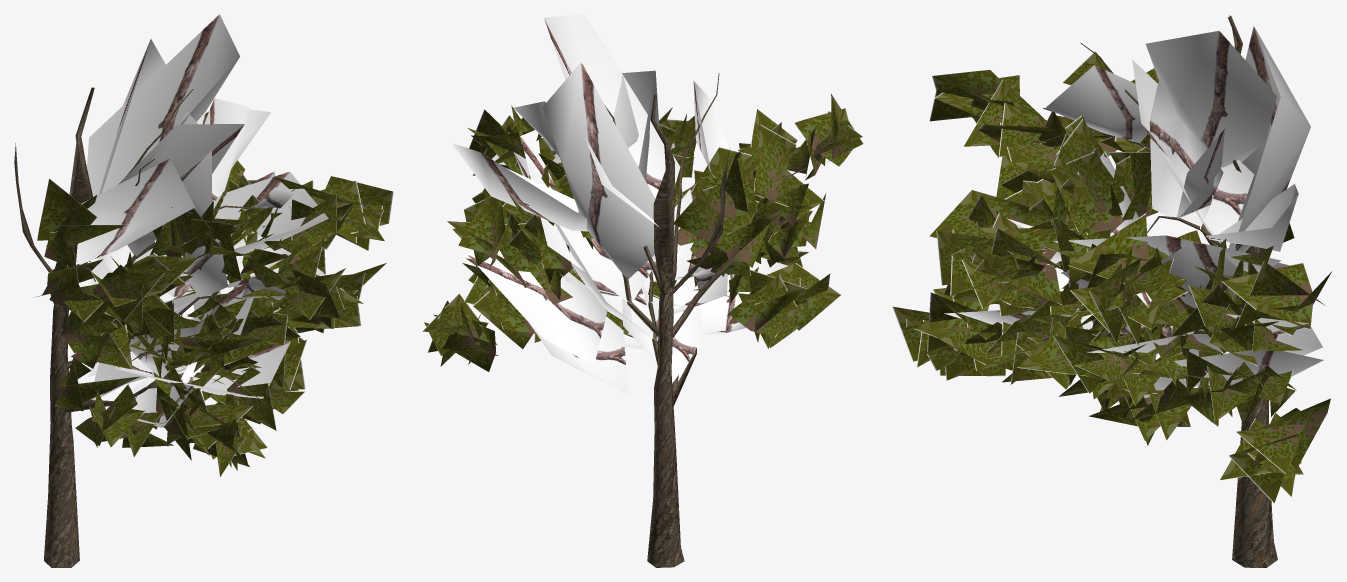
The model's file is apple treee.fbx.
The picture shows the model from 3 angles, left to right: view 1: azimuth 30°, elevation 25°; view 2: azimuth 150°, elevation 25°; view 3: azimuth 270°, elevation 25°; orthographic projection. The views are drawn at different scales.
Parts seen in each view (by area): view 1: apple_tree; view 2: apple_tree; view 3: apple_tree.
Boxes of the visible parts, box(x1,y1,x2,y2) form: apple_tree: box(14, 14, 393, 567); apple_tree: box(422, 14, 863, 567); apple_tree: box(892, 15, 1331, 567).
Bounding box in the file's own units: 4402 × 6374 × 4168.
